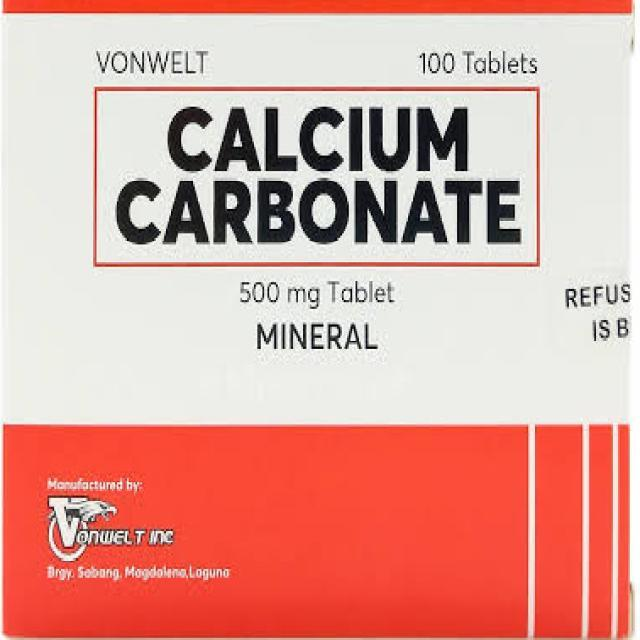drug-name: (96, 90, 530, 256)
